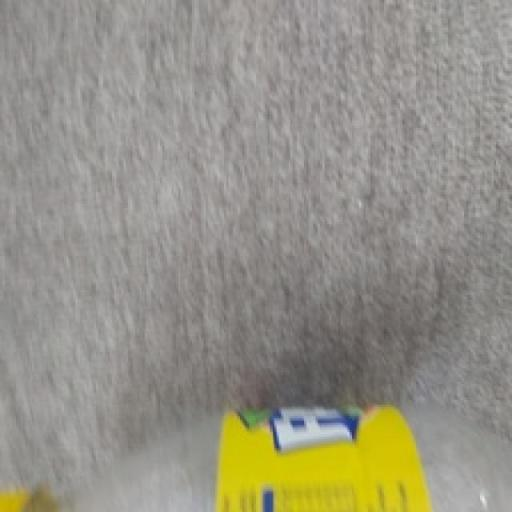plastic: (0, 400, 510, 510)
